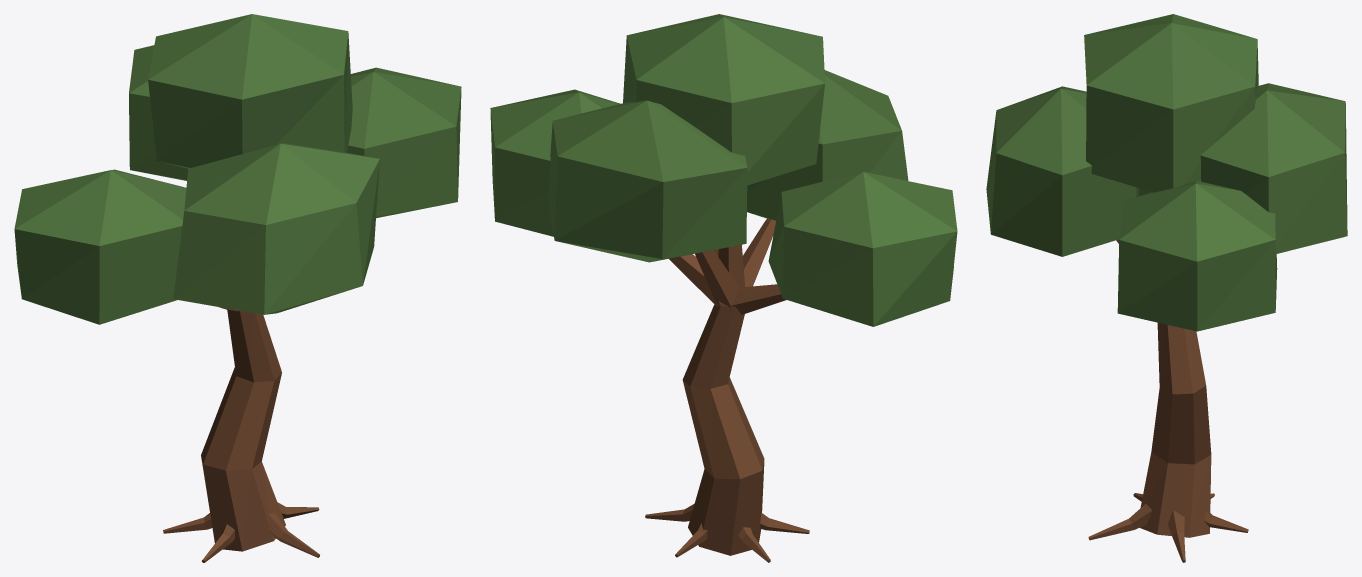
File: Plant_Common_GnarledOak_001_LOD1.glb
3 renders of one model, left to right at view 1: azimuth 30°, elevation 25°; view 2: azimuth 150°, elevation 25°; view 3: azimuth 270°, elevation 25°, orthographic. The views are drawn at different scales.
Parts seen in each view (by area): view 1: Plant_Common_GnarledOak_001_LOD1; view 2: Plant_Common_GnarledOak_001_LOD1; view 3: Plant_Common_GnarledOak_001_LOD1.
Part boxes in pixels (x1,y1,x2,y2): Plant_Common_GnarledOak_001_LOD1: [14, 14, 461, 562]; Plant_Common_GnarledOak_001_LOD1: [490, 14, 957, 562]; Plant_Common_GnarledOak_001_LOD1: [986, 14, 1347, 562].
Bounding box in the file's own units: 6.52 × 7.14 × 4.56.
